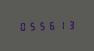five: (27, 20, 36, 31), (38, 20, 47, 30)
one: (58, 19, 67, 30)
six: (48, 19, 57, 30)
three: (68, 19, 77, 29)
zero: (17, 21, 26, 31)
